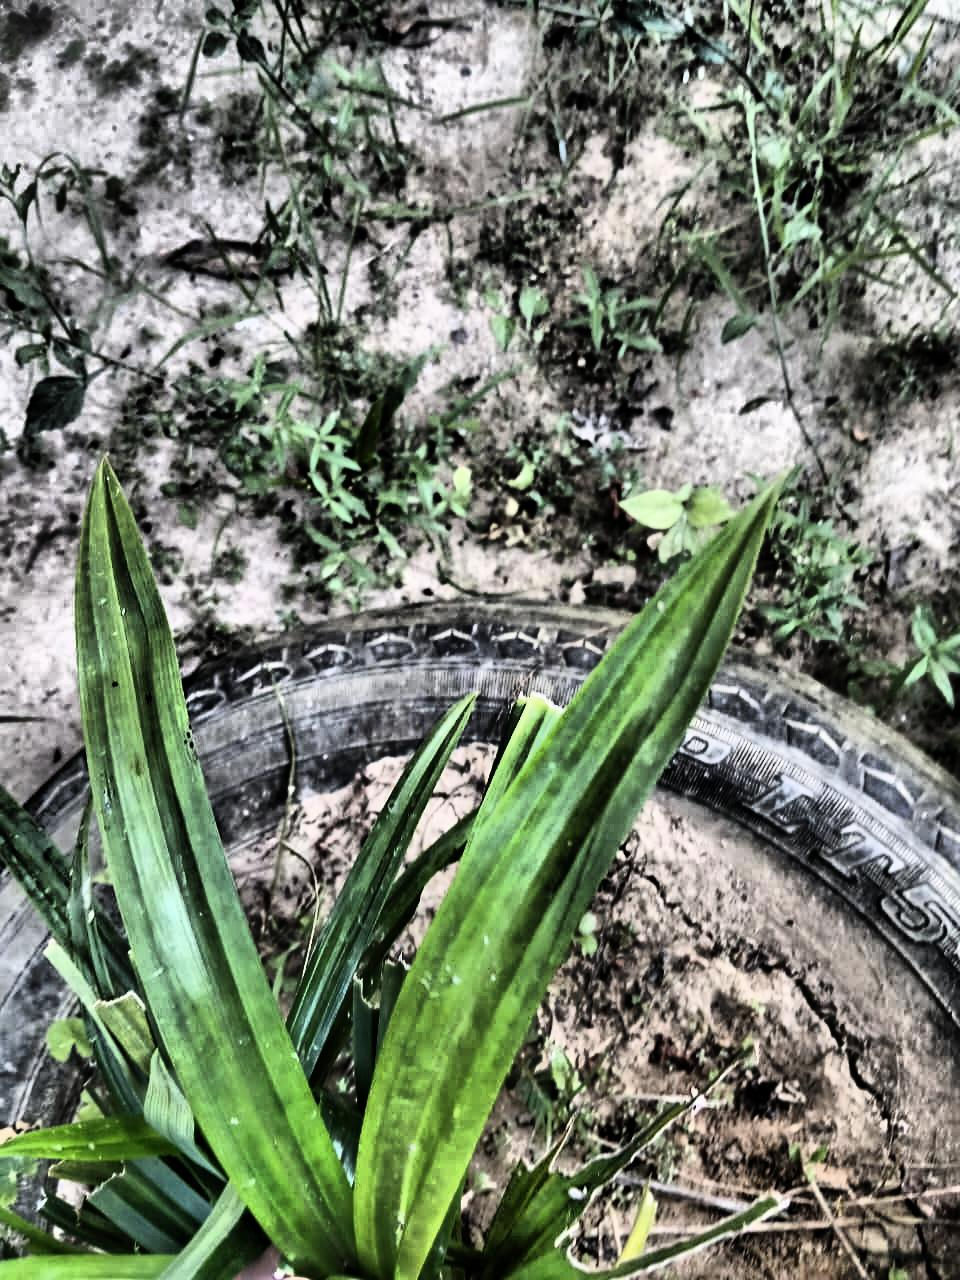daun pandan: (0, 461, 778, 1279)
